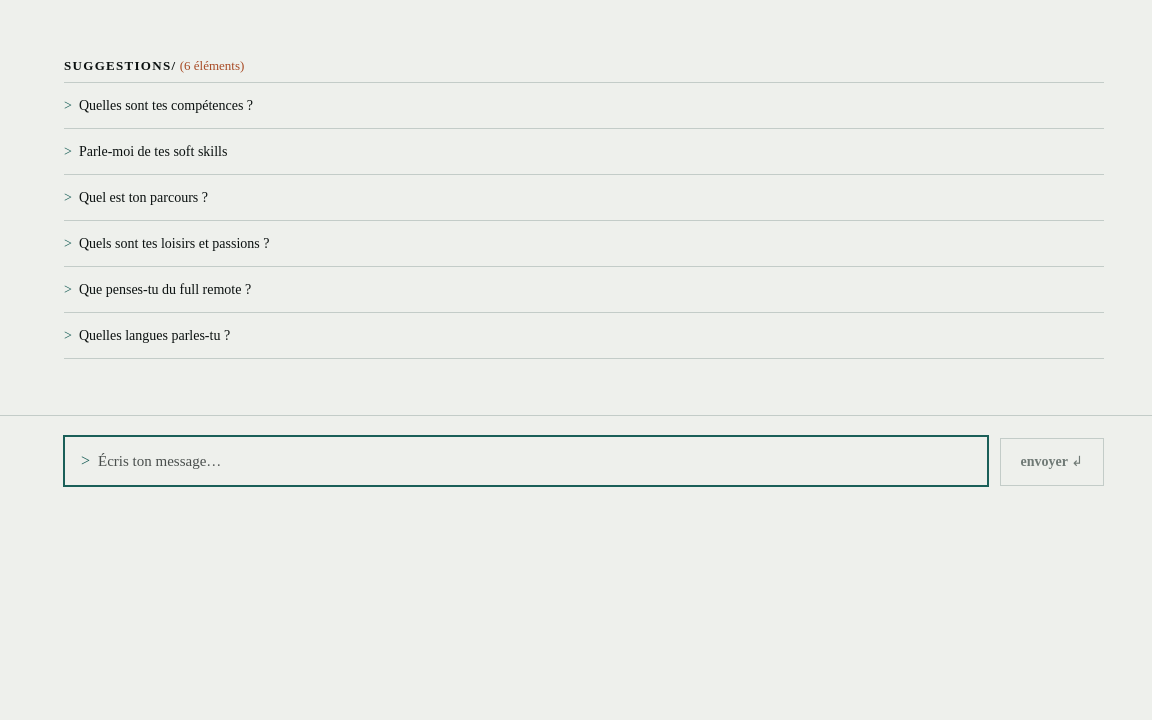
it: ChatInterface › stocke les sources RAG dans le message assistant quand elles sont fournies
The width and height of the screenshot is (1152, 720).
Type "Bonjour" into the text box named "message à envoyer".
click(534, 460); type("Bonjour")  # box x1=98 y1=448 x2=971 y2=472
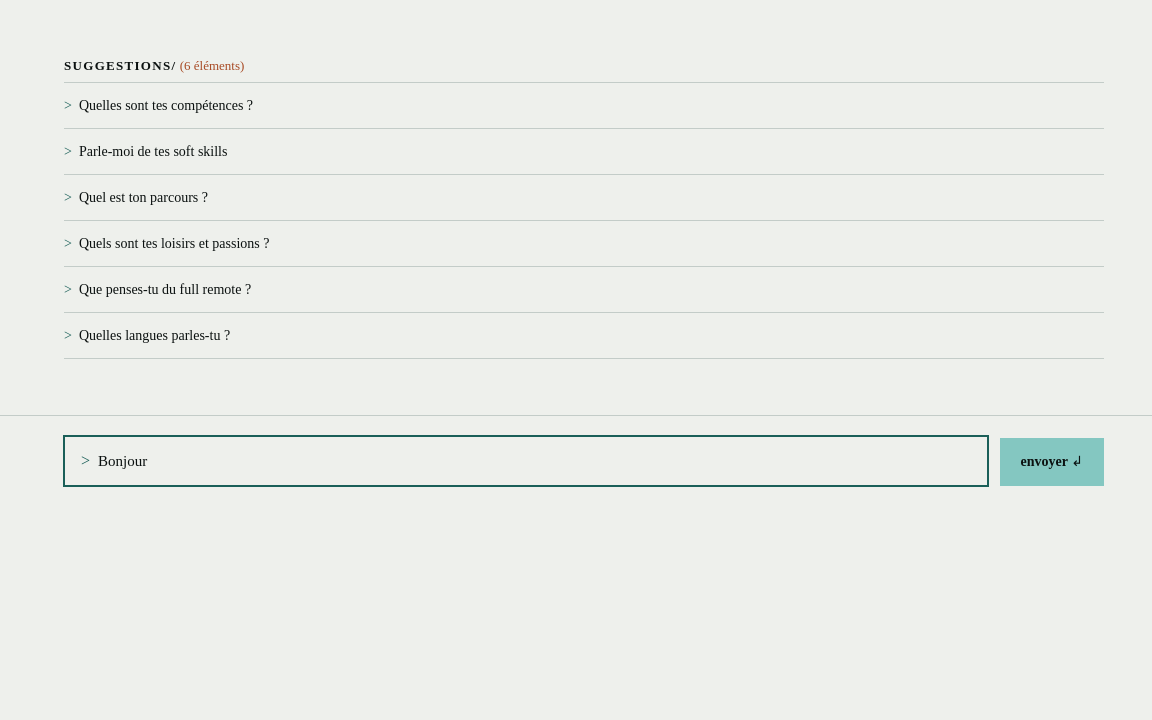
Click the button "envoyer ↲".
click(1052, 462)  # box x1=1000 y1=438 x2=1104 y2=486
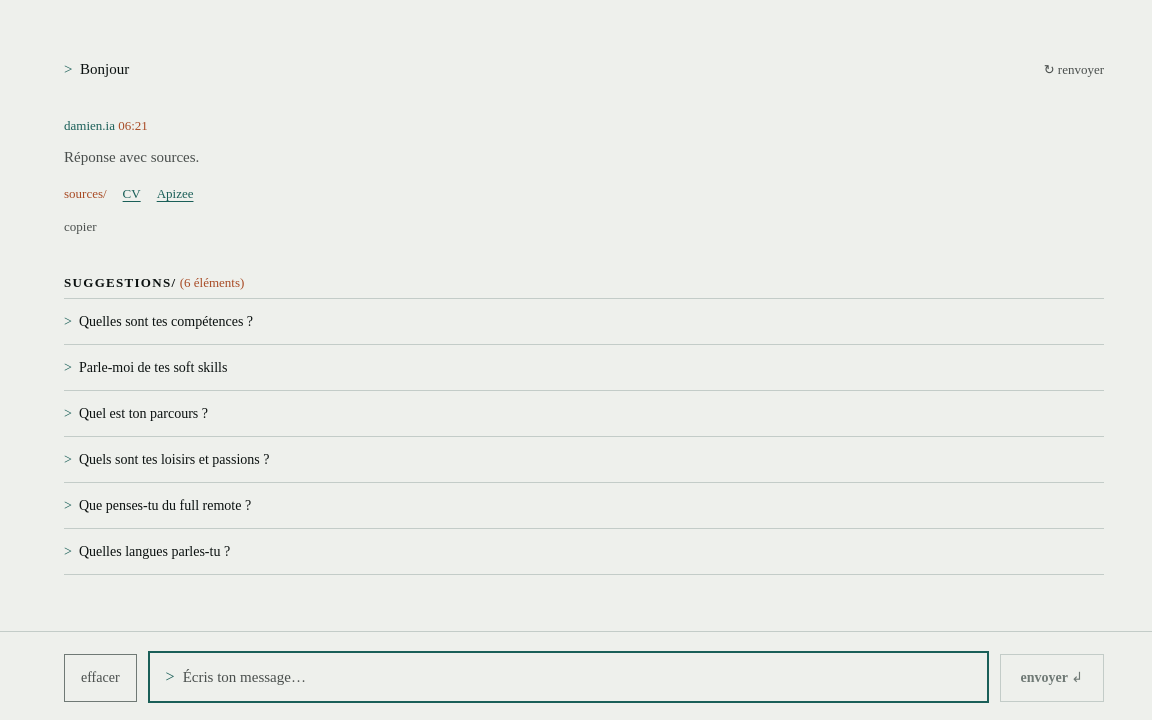
Check: the text "Réponse avec sources." is shown, box x1=64 y1=149 x2=199 y2=165
